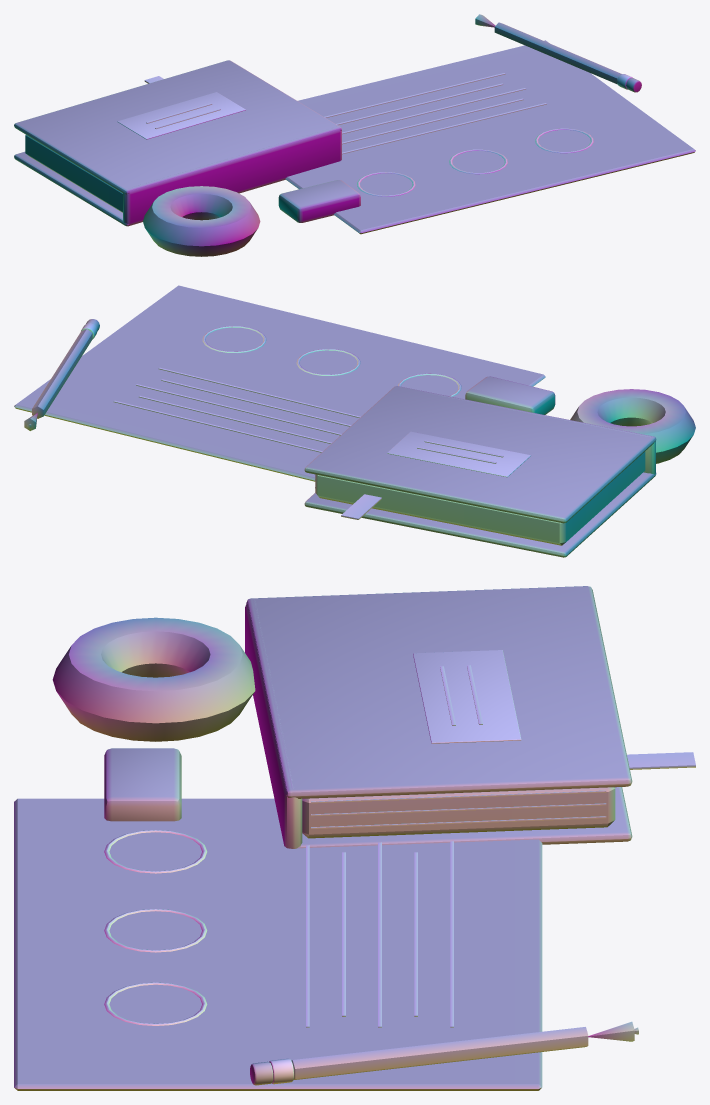
Rendered from env_dress_study_notes.glb.
3 views of the same model, one above another, from view 1: azimuth 30°, elevation 25°; view 2: azimuth 150°, elevation 25°; view 3: azimuth 270°, elevation 25° (orthographic). The views are drawn at different scales.
Visible parts, largest first — view 1: env_dress_study_notes_mesh; view 2: env_dress_study_notes_mesh; view 3: env_dress_study_notes_mesh.
Part boxes in pixels (x1,y1,x2,y2): env_dress_study_notes_mesh: (14,14,695,256); env_dress_study_notes_mesh: (14,285,695,557); env_dress_study_notes_mesh: (14,586,695,1090).
Bounding box in the file's own units: 0.8376 × 0.0592 × 0.5292.
